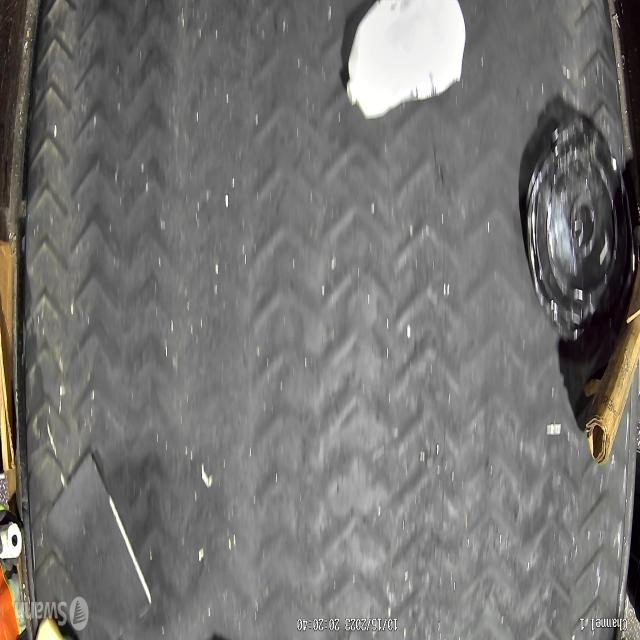milk_jug: (345, 0, 466, 123)
